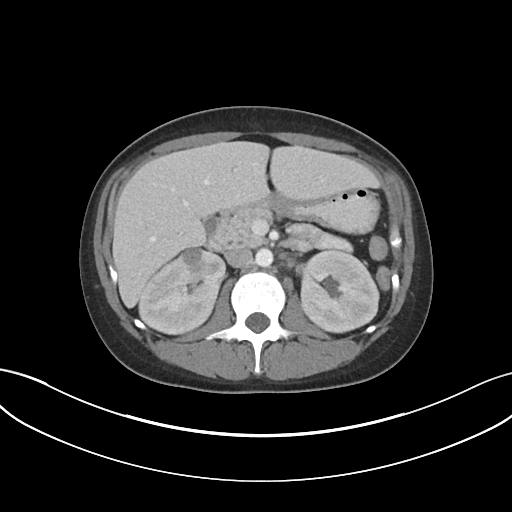Lesion: (177, 245, 207, 269)
